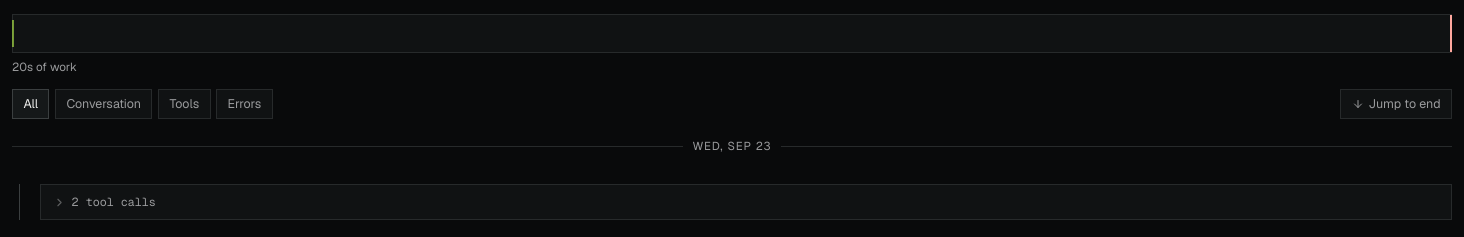
Test case: TranscriptView › empty conversation filter keeps the empty-state copy
Click the button "Conversation" at (104, 104), box [55,89,152,119]
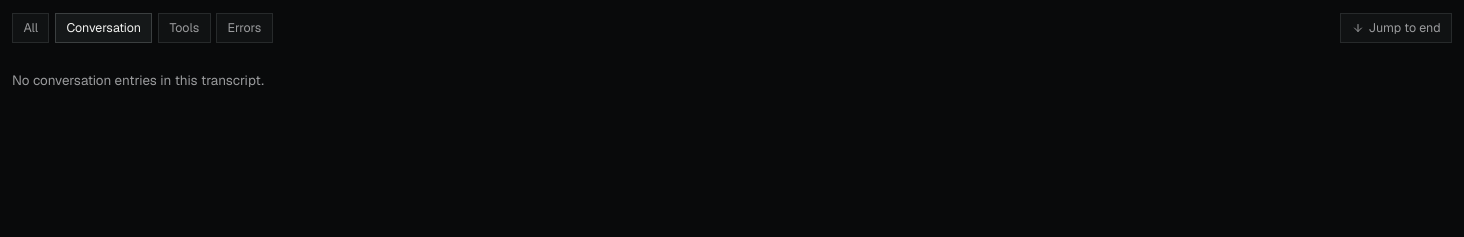
Check: the text "No conversation entries in this transcript." is shown, box [12,71,264,89]
